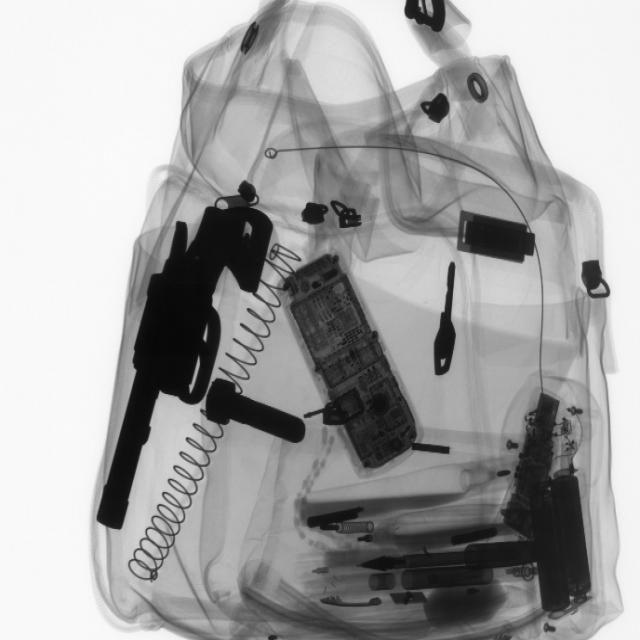GUN: (91, 193, 275, 551)
